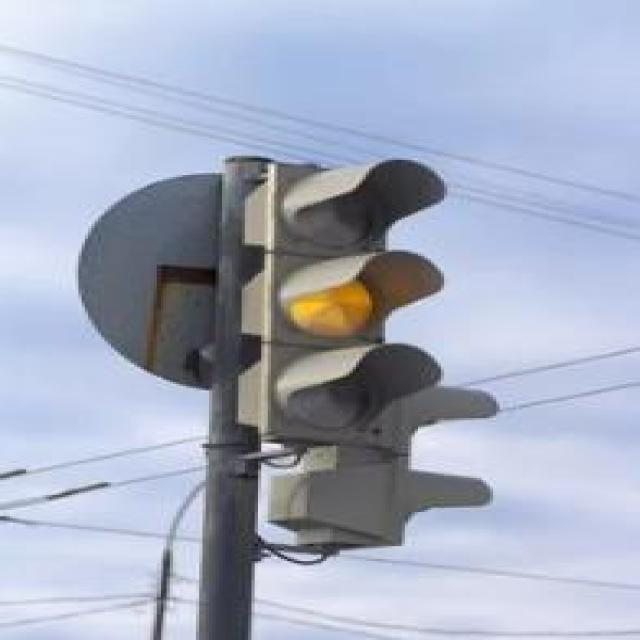yellow_light: (258, 159, 443, 438)
